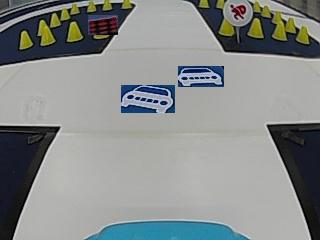thief: (222, 0, 255, 26)
